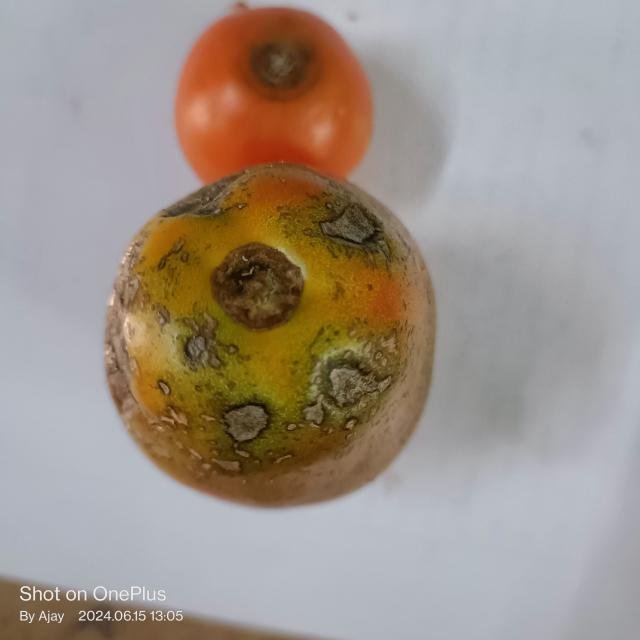Bacterial_Spot: (203, 239, 307, 327), (317, 202, 387, 250), (318, 359, 389, 404), (215, 397, 271, 445), (183, 340, 238, 371), (297, 408, 329, 432), (170, 203, 228, 215), (162, 405, 190, 428), (212, 456, 242, 474), (341, 416, 359, 431), (156, 380, 172, 396), (189, 448, 202, 460), (201, 188, 216, 198), (240, 188, 254, 196), (223, 180, 228, 187)
